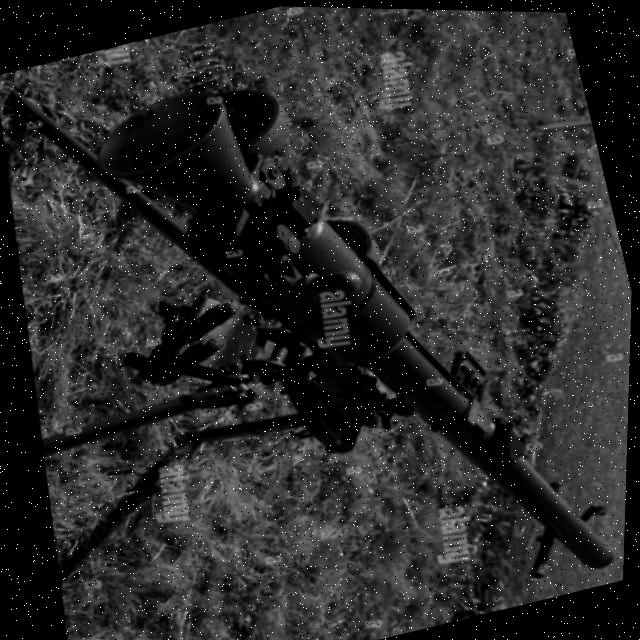rocket: (22, 1, 640, 640)
